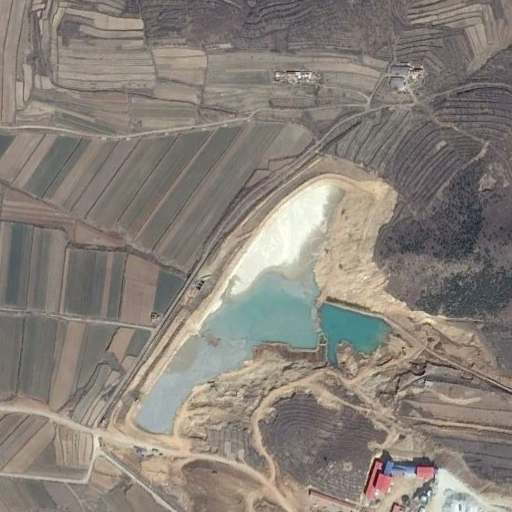tp: (115, 155, 394, 446)
